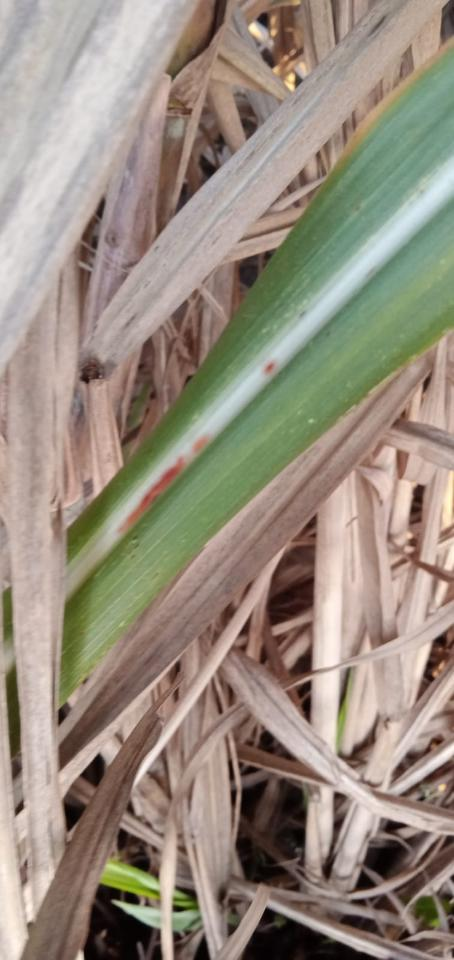RedRot: (119, 434, 214, 533), (264, 359, 280, 376)
